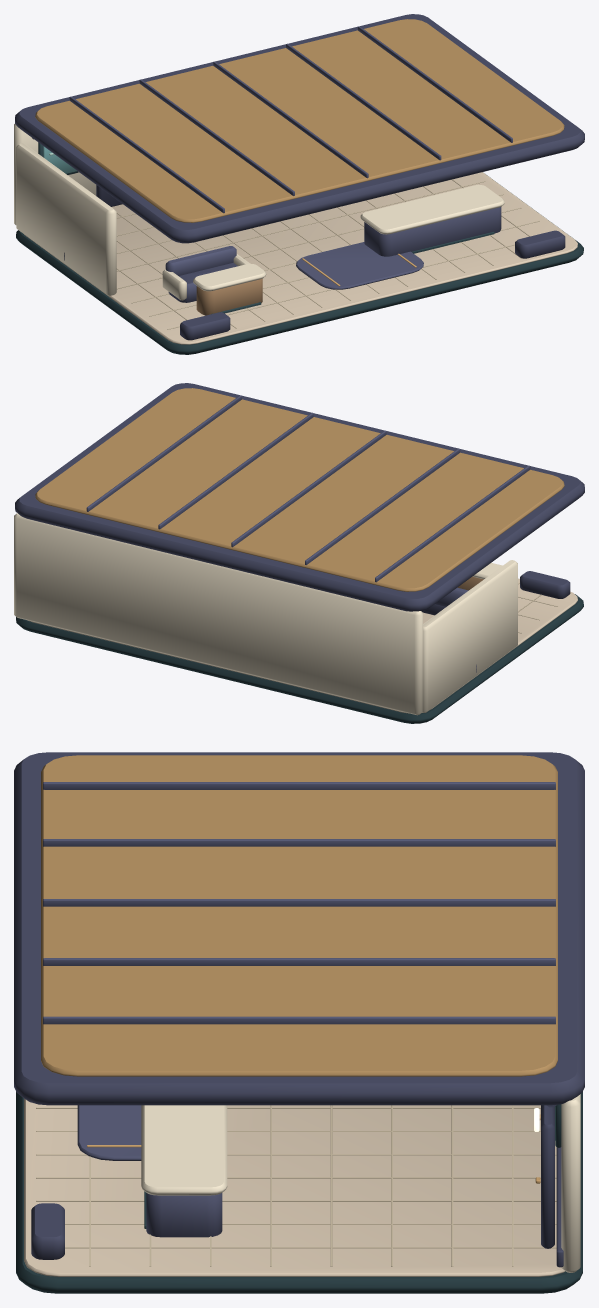
The model's file is hotel.glb.
3 renders of one model, top to bottom at view 1: azimuth 30°, elevation 25°; view 2: azimuth 150°, elevation 25°; view 3: azimuth 270°, elevation 25°, orthographic. The views are drawn at different scales.
Visible parts, largest first — view 1: Roof, Room; view 2: Roof, Room; view 3: Roof, Room.
Boxes of the visible parts, x1=… form: Roof: x1=15, y1=14, x2=584, y2=243; Room: x1=14, y1=124, x2=583, y2=354; Roof: x1=15, y1=383, x2=584, y2=611; Room: x1=14, y1=513, x2=583, y2=723; Roof: x1=14, y1=752, x2=584, y2=1105; Room: x1=16, y1=1092, x2=582, y2=1293.
Size of the model in its own units: 11.5 by 3.48 by 8.18.
